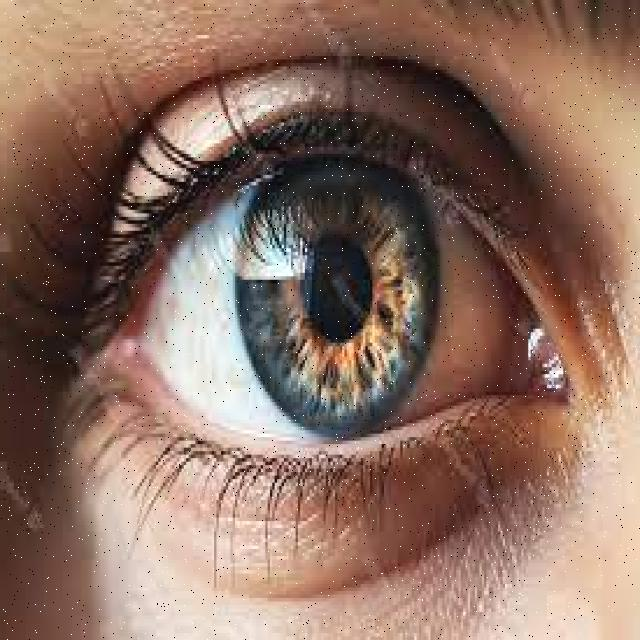Normal: (0, 76, 625, 490)
